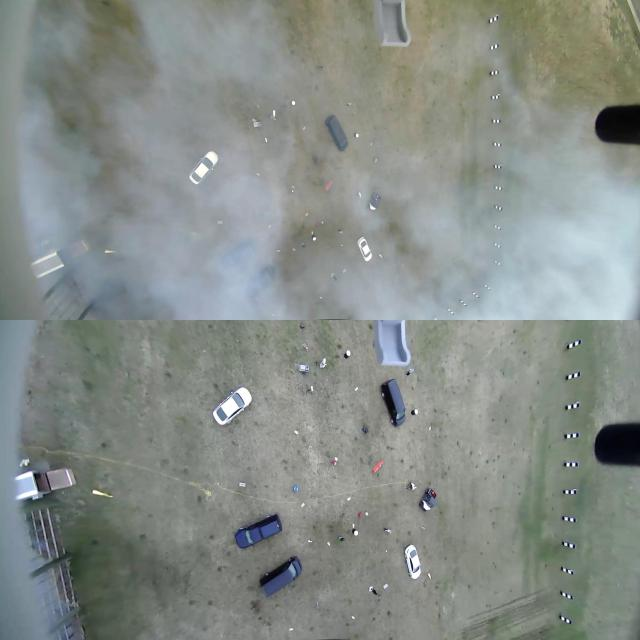car: (259, 554, 303, 595), (376, 374, 408, 428), (212, 384, 252, 426), (233, 514, 282, 548), (188, 150, 216, 184), (404, 543, 422, 579), (356, 234, 374, 261)
